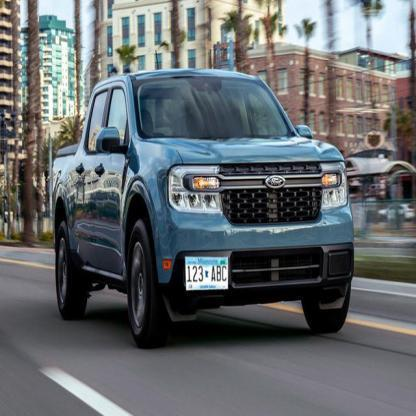License-Plate: (177, 247, 234, 299)
